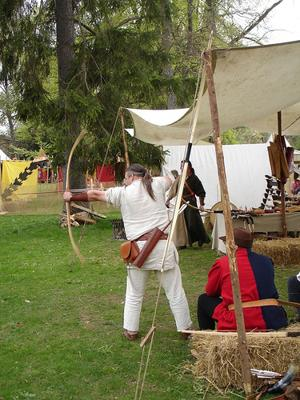person: (65, 160, 194, 339)
